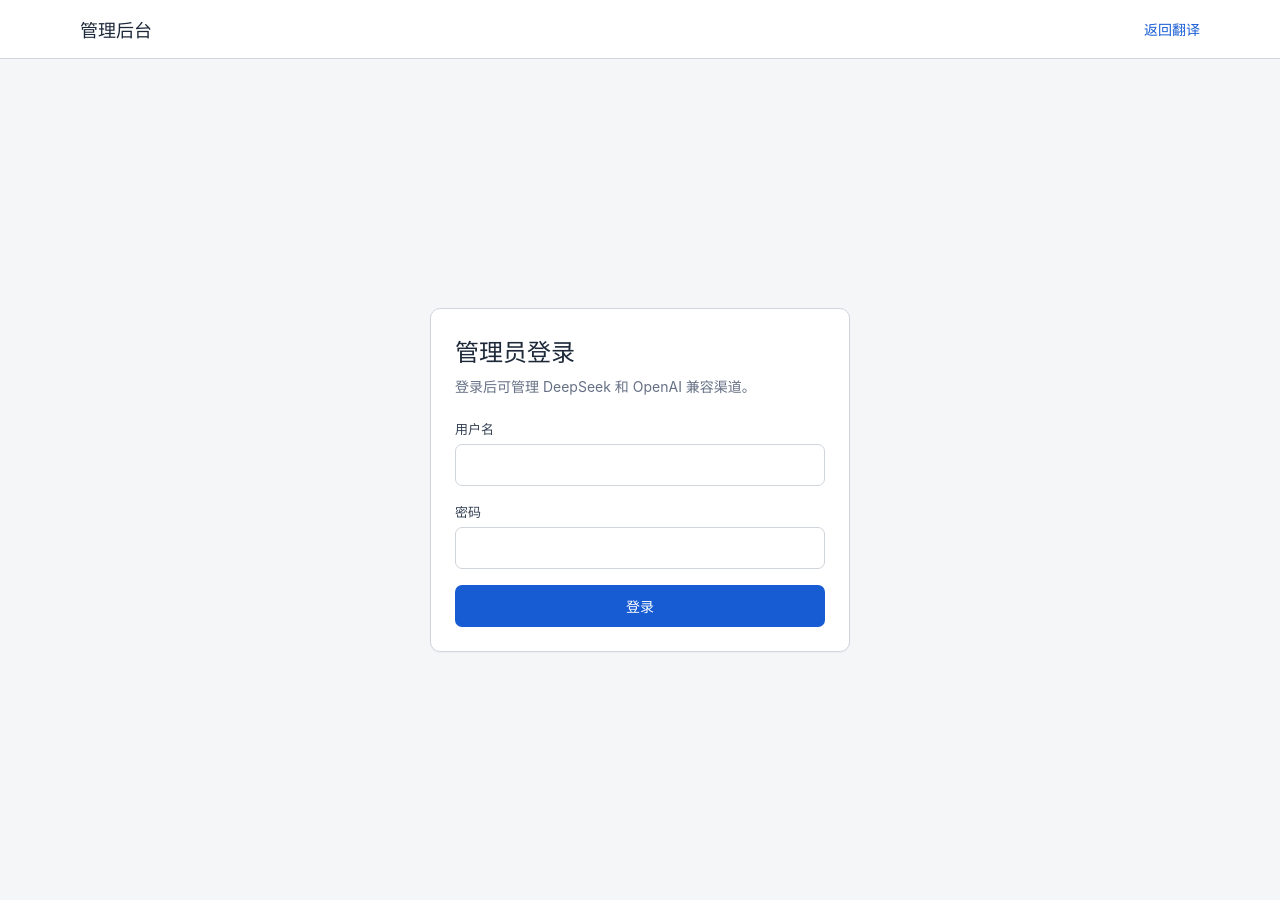
Test: administrator page › logs in with an HttpOnly-cookie flow and sends CSRF on logout
The width and height of the screenshot is (1280, 900).
Expected: the heading "管理员登录" is shown, [455,338,575,367]
Type "admin" into the field labelled "用户名". click: (640,465)
box: [455,444,825,486]
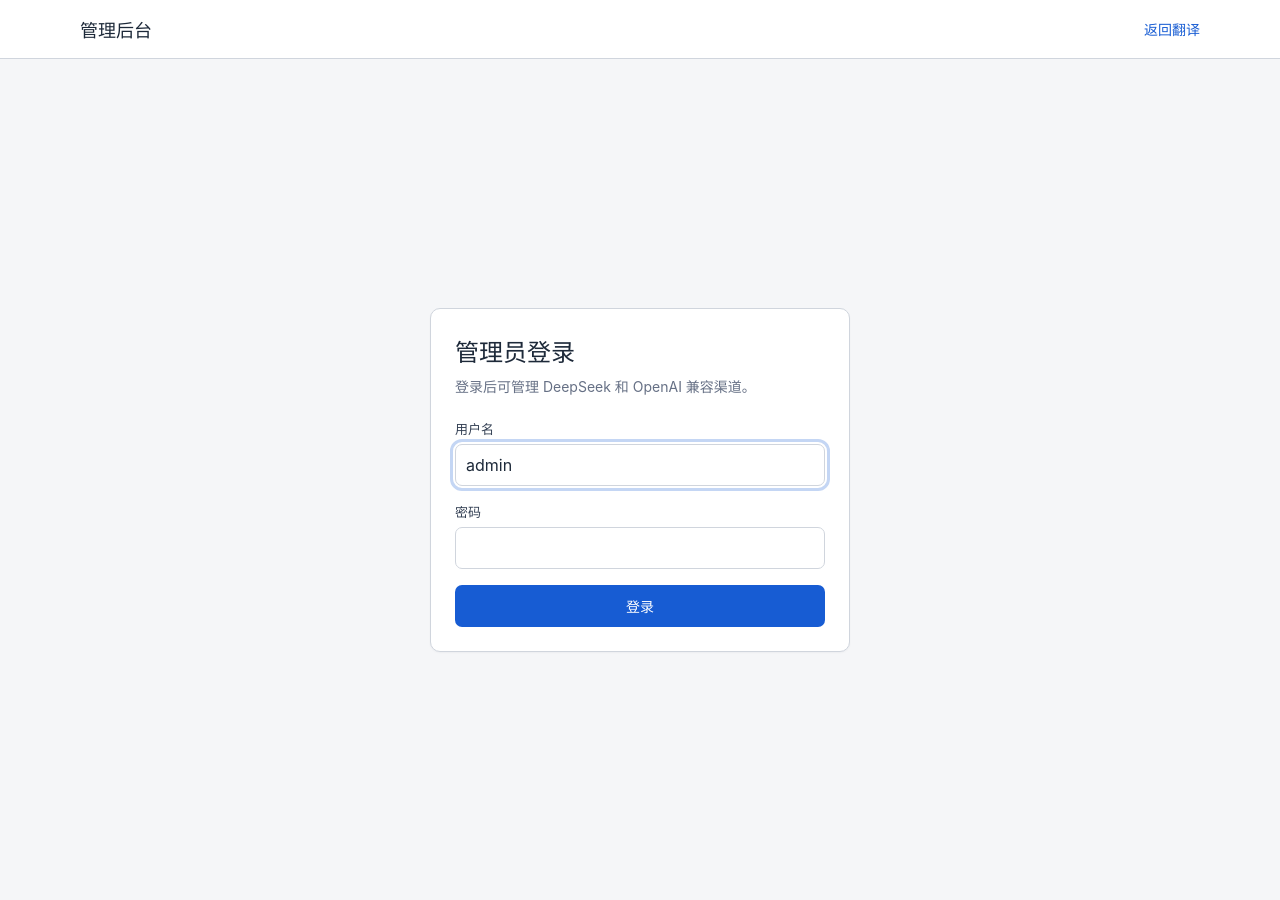
Type "a-secure-password" into the password field labelled "密码". click: (640,548)
box: [455,527,825,569]
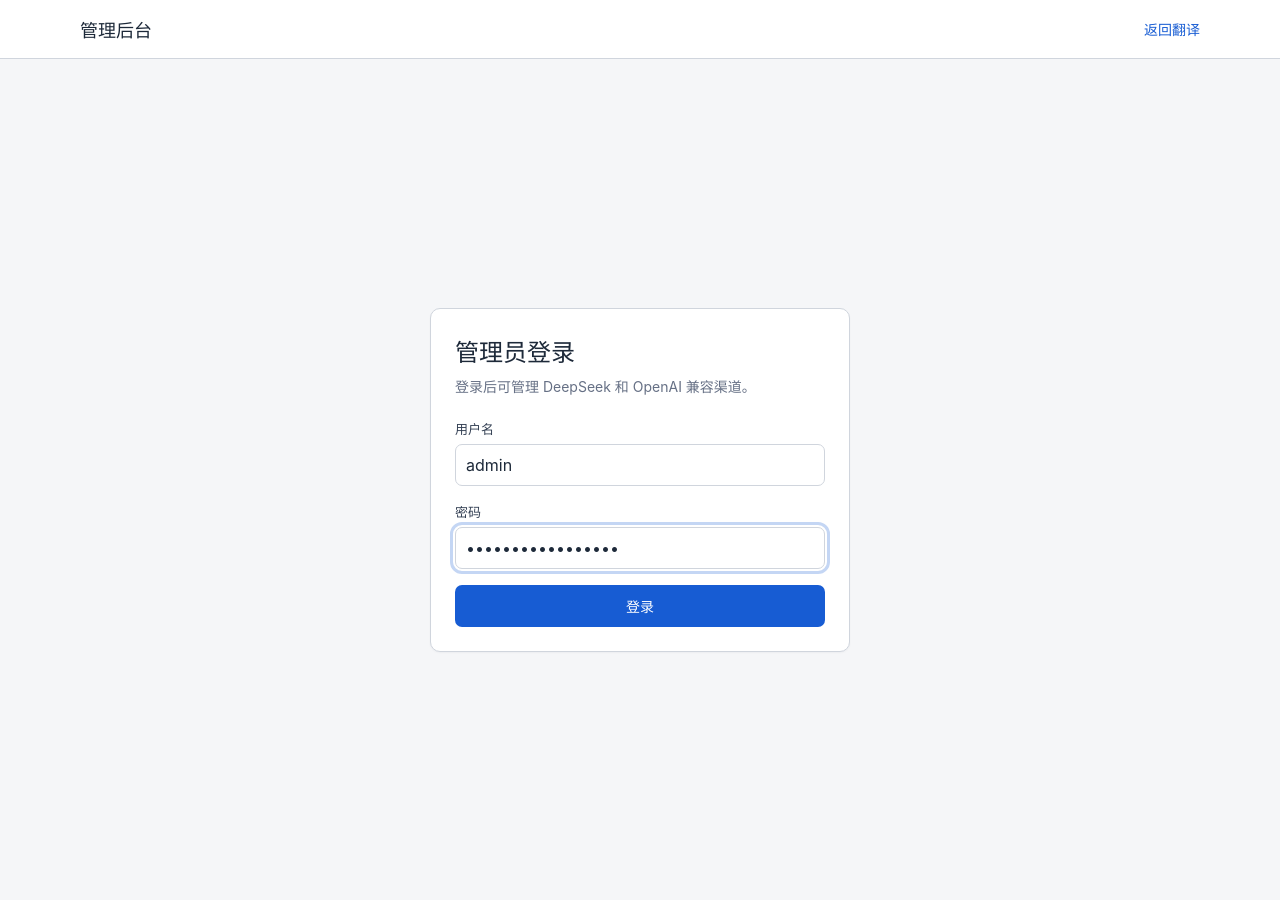
Click the button "登录". click: (640,606)
box: [455,585,825,627]
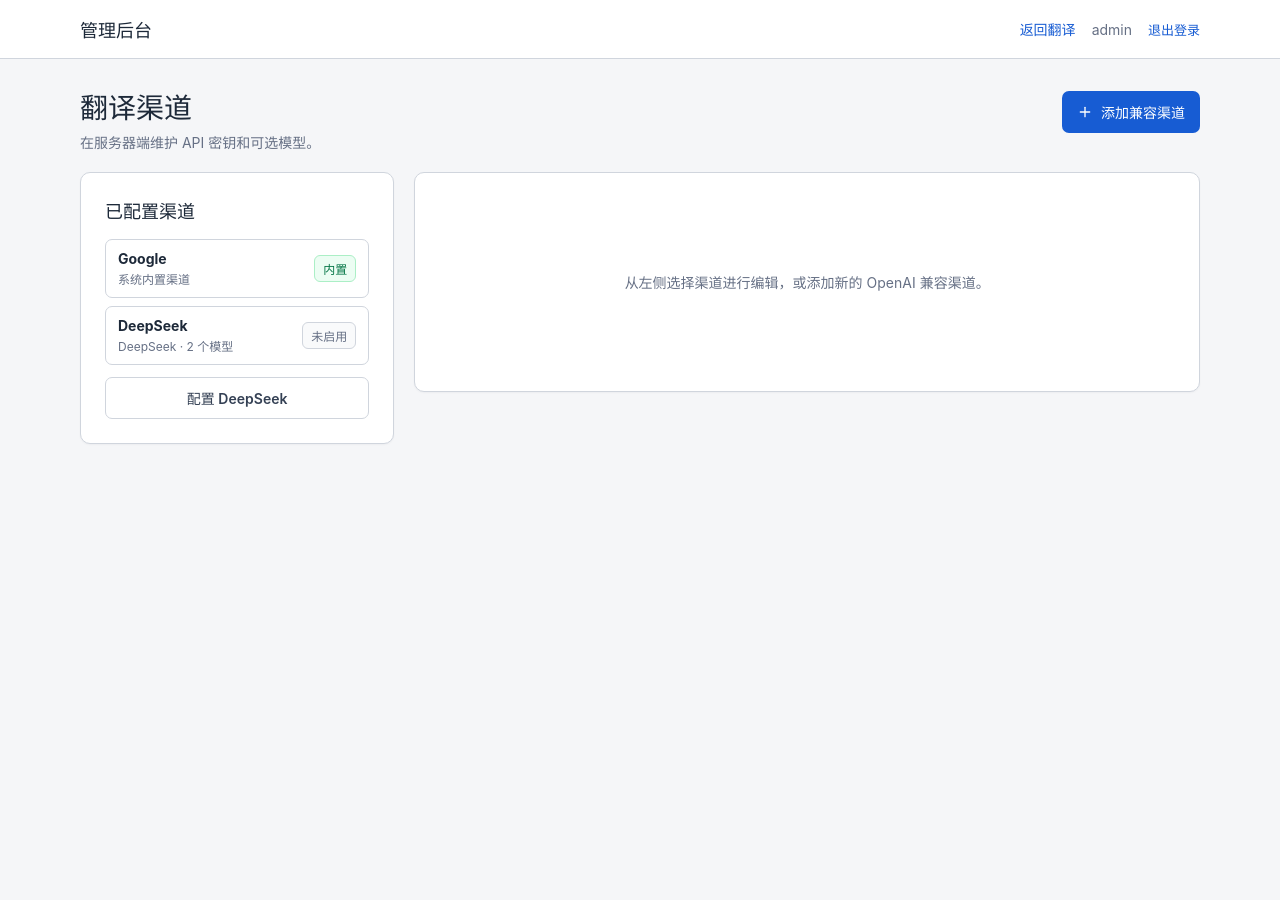
Click the button "退出登录". click: (1174,29)
box: [1148,20,1200,38]
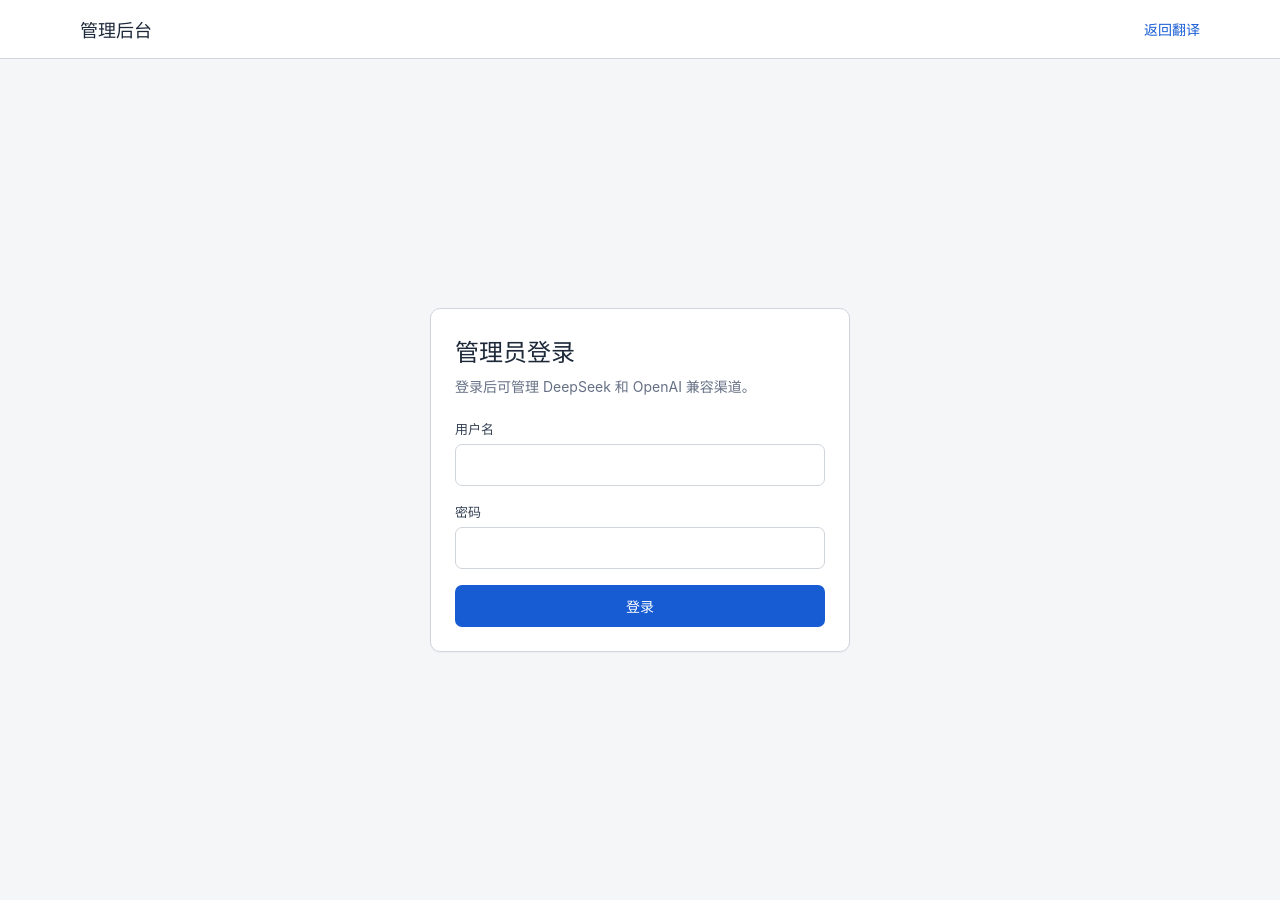
Now the heading "管理员登录" is shown, box [455,338,575,367]
